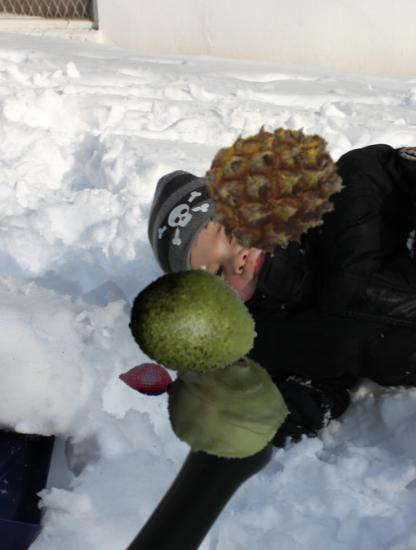Avocado: (129, 254, 259, 384)
Kohlrabi: (165, 343, 291, 469)
Pineapple: (203, 116, 345, 258)
Salak: (119, 347, 184, 412)
